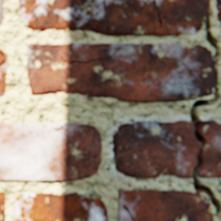brick: (26, 44, 213, 101), (19, 0, 207, 35), (0, 123, 100, 180), (117, 190, 211, 220), (12, 192, 107, 220), (0, 49, 7, 96), (215, 0, 220, 27), (0, 191, 4, 220), (0, 0, 3, 25)
broken_brick: (112, 121, 199, 178), (197, 120, 220, 177)
crack: (188, 0, 220, 220), (60, 57, 99, 63), (153, 0, 160, 27), (122, 204, 133, 220), (138, 0, 147, 14), (53, 123, 66, 130)
